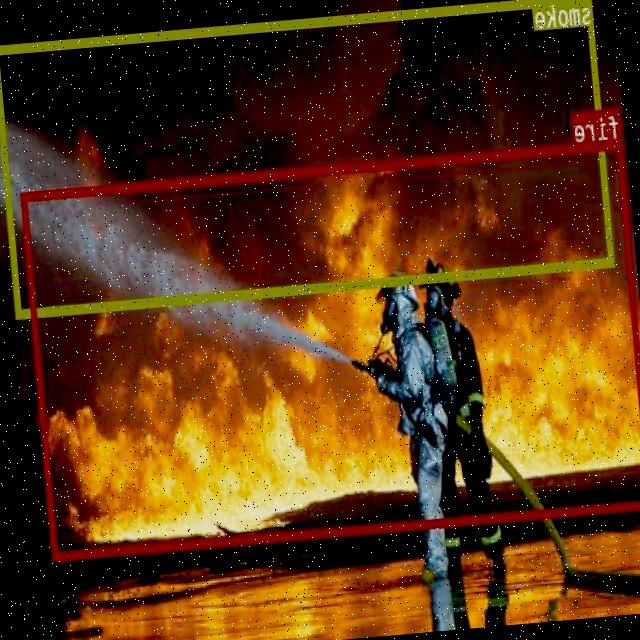fire: (22, 138, 640, 559)
smoke: (0, 0, 615, 315)
